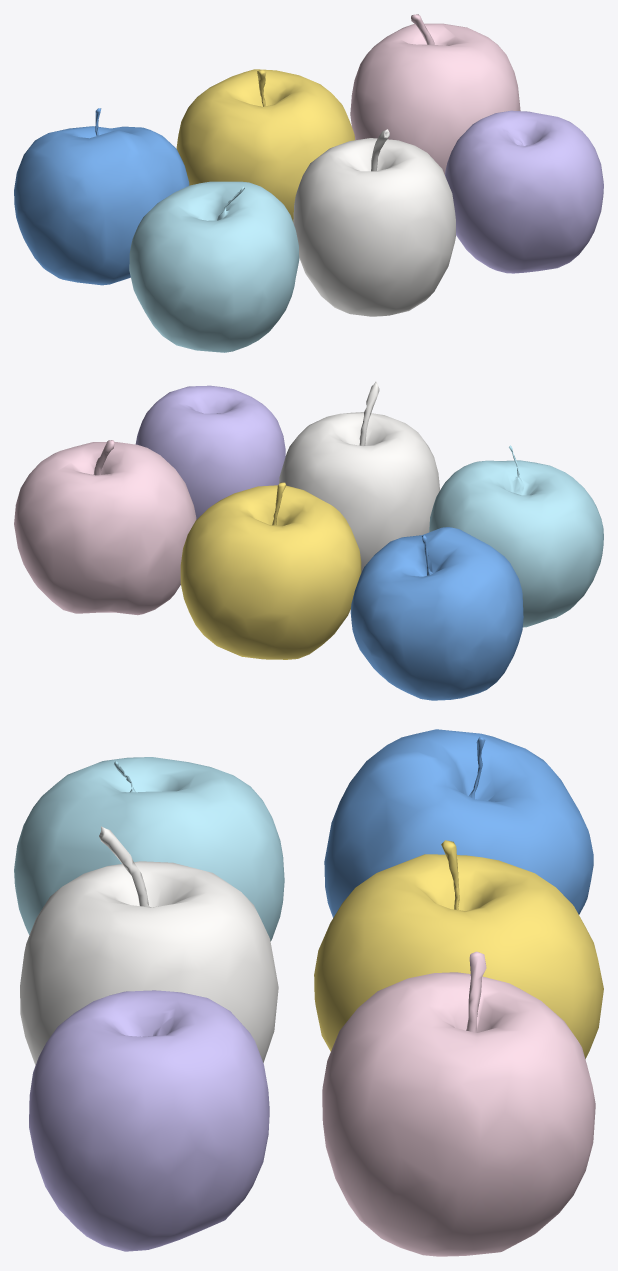
The model's file is nr-apples.glb.
3 renders of one model, top to bottom at view 1: azimuth 30°, elevation 25°; view 2: azimuth 150°, elevation 25°; view 3: azimuth 270°, elevation 25°, orthographic. The views are drawn at different scales.
Parts seen in each view (by area): view 1: nr-apples-4, nr-apples-3, nr-apples-5, nr-apples-0, nr-apples-2, nr-apples-1; view 2: nr-apples-2, nr-apples-1, nr-apples-0, nr-apples-3, nr-apples-4, nr-apples-5; view 3: nr-apples-2, nr-apples-5, nr-apples-1, nr-apples-4, nr-apples-0, nr-apples-3.
Boxes of the visible parts, bbox=[...] form: nr-apples-4: bbox=[293, 129, 455, 316]; nr-apples-3: bbox=[129, 181, 299, 352]; nr-apples-5: bbox=[445, 110, 603, 273]; nr-apples-0: bbox=[14, 108, 189, 285]; nr-apples-2: bbox=[350, 14, 520, 174]; nr-apples-1: bbox=[176, 69, 354, 221]; nr-apples-2: bbox=[14, 440, 196, 615]; nr-apples-1: bbox=[180, 482, 361, 659]; nr-apples-0: bbox=[350, 527, 523, 700]; nr-apples-3: bbox=[429, 445, 603, 627]; nr-apples-4: bbox=[279, 381, 439, 572]; nr-apples-5: bbox=[135, 385, 285, 519]; nr-apples-2: bbox=[322, 951, 595, 1256]; nr-apples-5: bbox=[29, 990, 269, 1251]; nr-apples-1: bbox=[314, 840, 603, 1058]; nr-apples-4: bbox=[20, 826, 278, 1065]; nr-apples-0: bbox=[324, 729, 593, 917]; nr-apples-3: bbox=[14, 757, 284, 941].
Bounding box in the file's own units: 1 × 0.3594 × 0.666.
